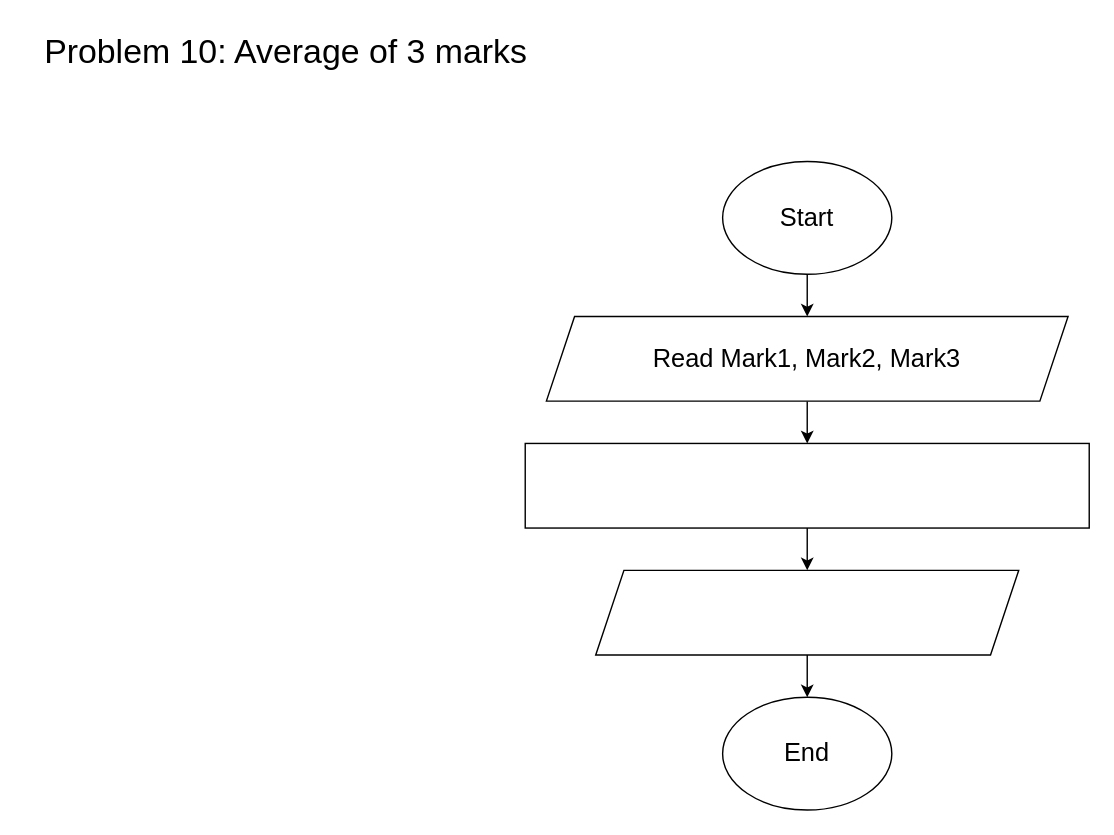
Image size: 1114x835. Some labels were removed from this diagram. The centre of each missing label's shape, as x and y in pixels:
Average = (Mark1 + Mark2 + Mark3) / 3: point 806,485
Print Average: point 806,612
